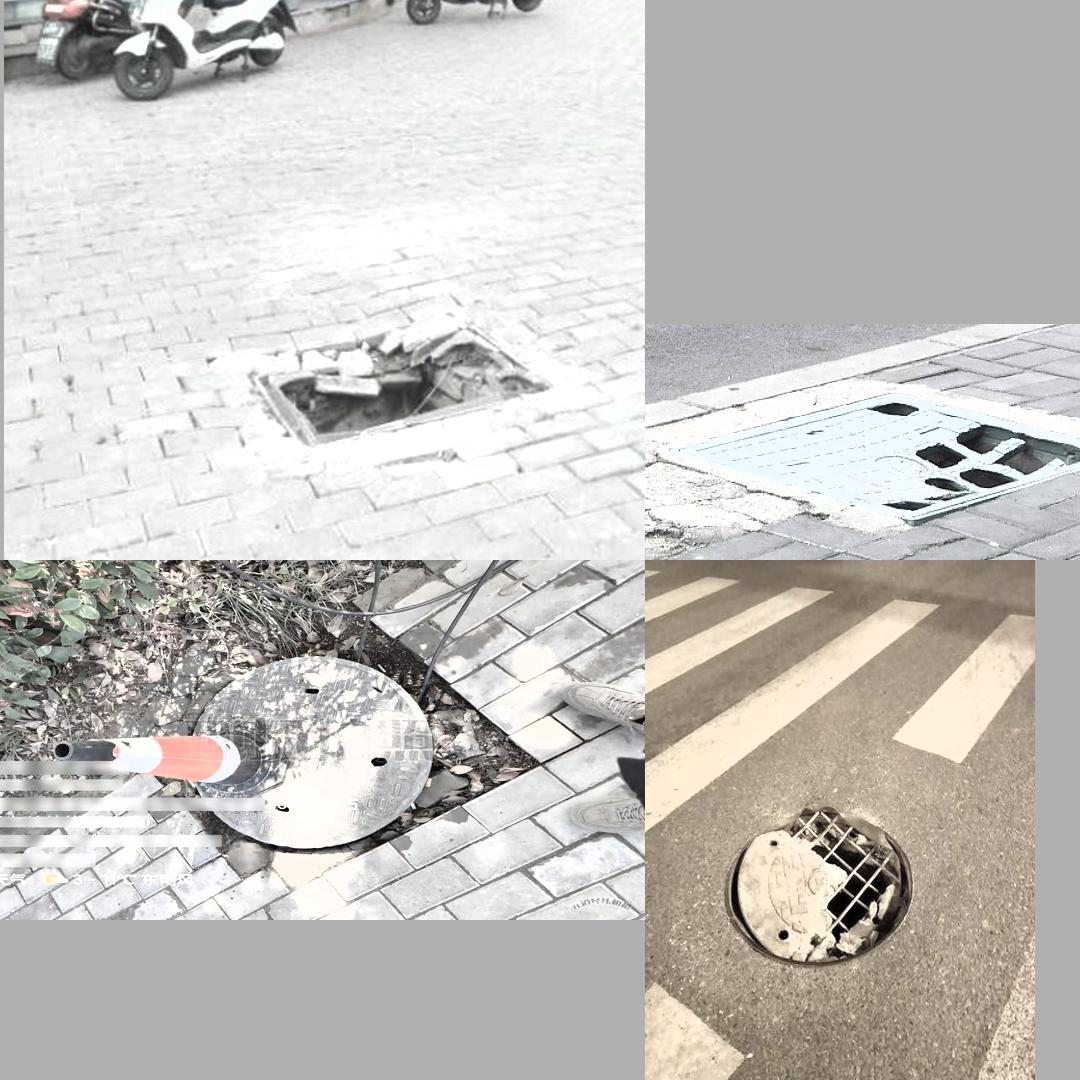broke: (670, 381, 1080, 527), (183, 655, 434, 849), (248, 312, 555, 456), (712, 797, 925, 973)
